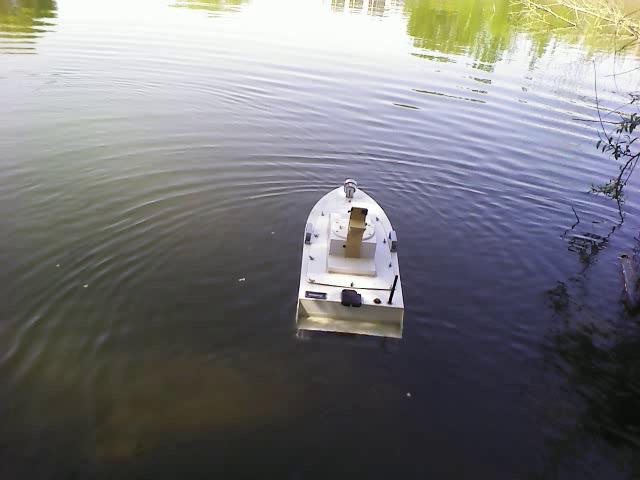boat: (293, 176, 409, 342)
